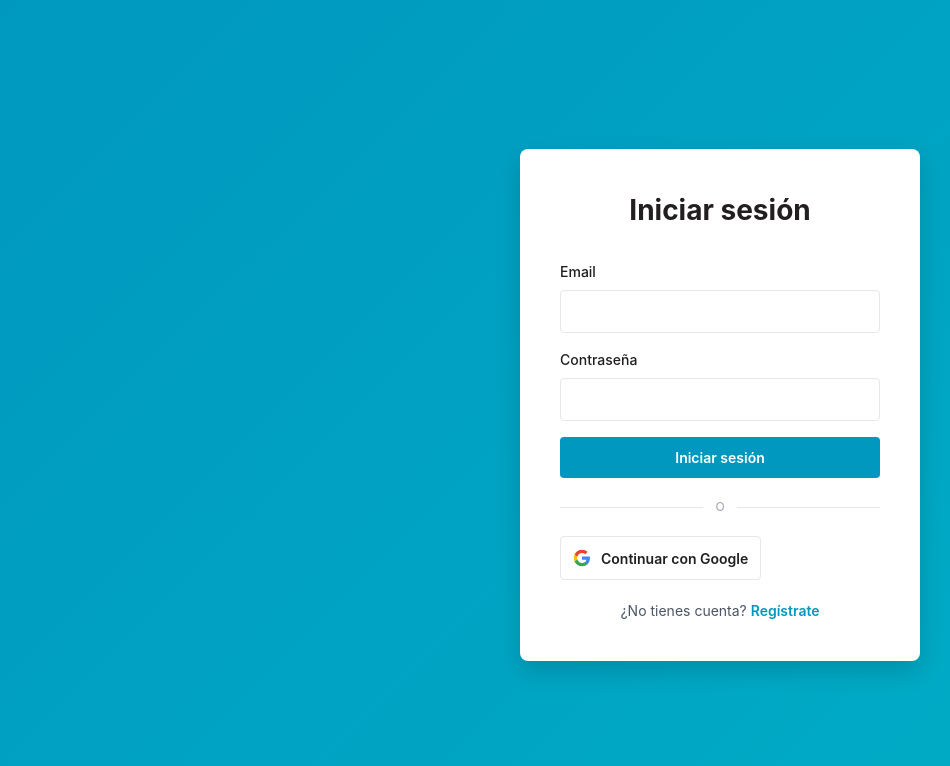
Test case: LoginPage › muestra mensaje de error cuando el login falla
Type "user@example.com" into the field labelled "Email". click: (720, 312)
box: left=560, top=290, right=880, bottom=333
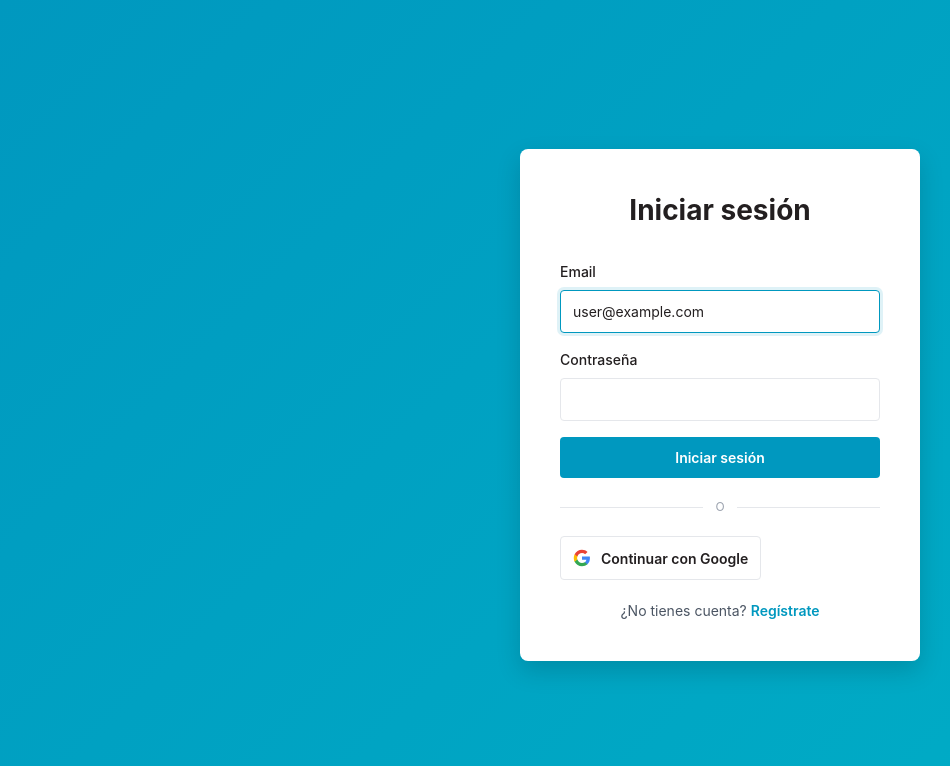
Type "wrong" into the password field labelled "Contraseña". click: (720, 400)
box: left=560, top=378, right=880, bottom=421
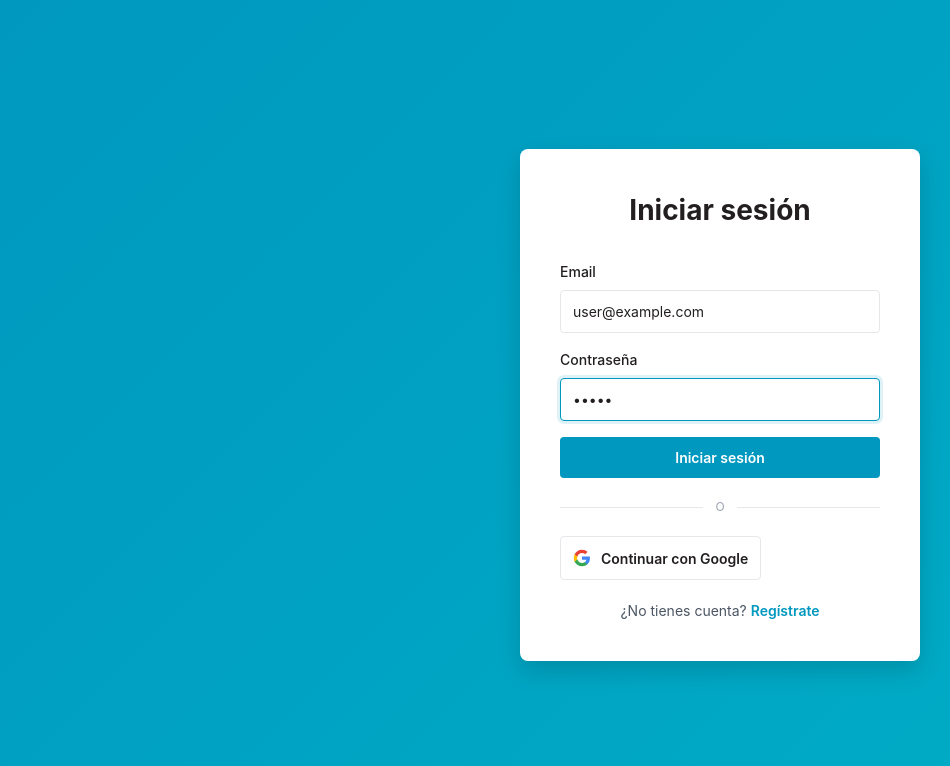
Click the button "Iniciar sesión". click: (720, 458)
box: left=560, top=437, right=880, bottom=478
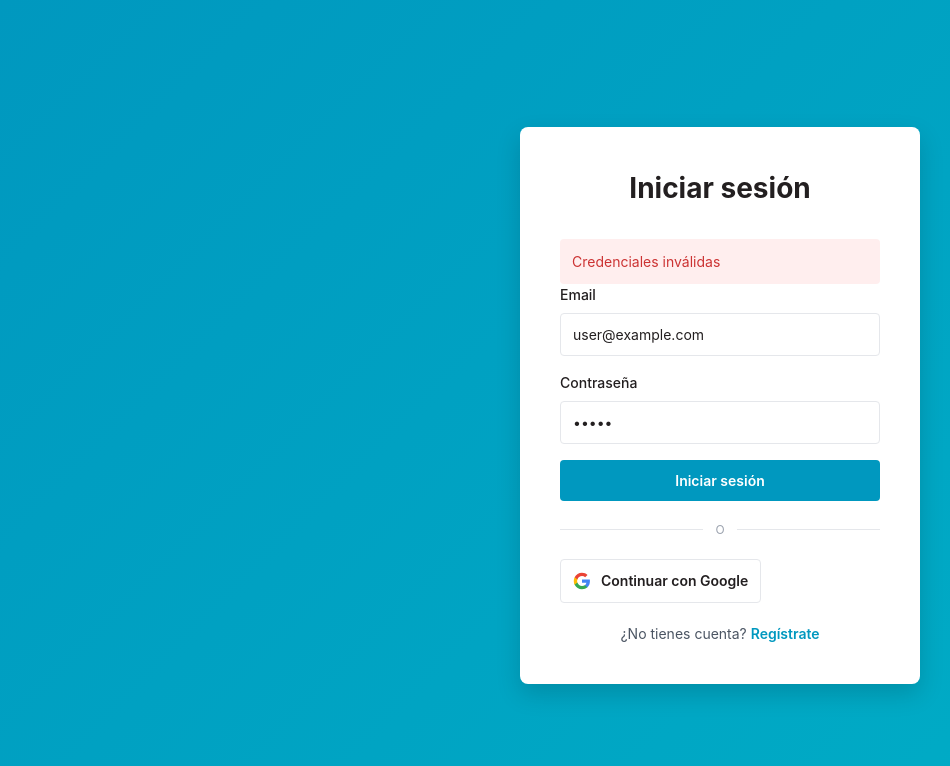
Expected: the text "Credenciales inválidas" is shown, left=560, top=238, right=880, bottom=284
